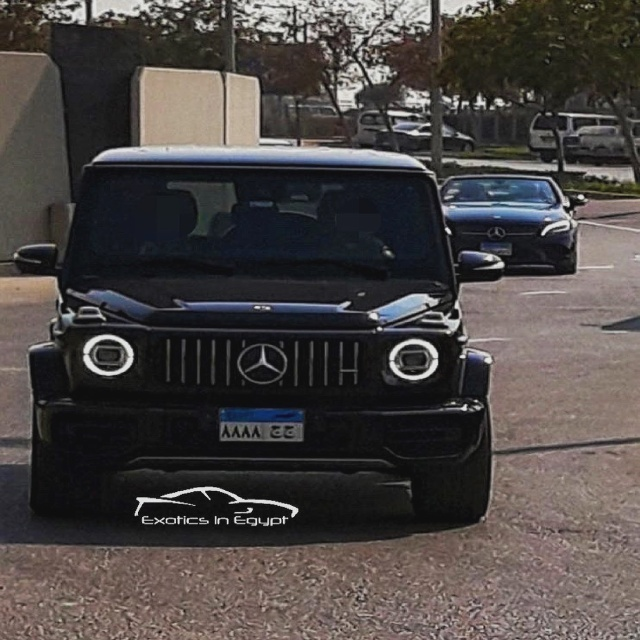License Plate: (217, 405, 306, 443)
